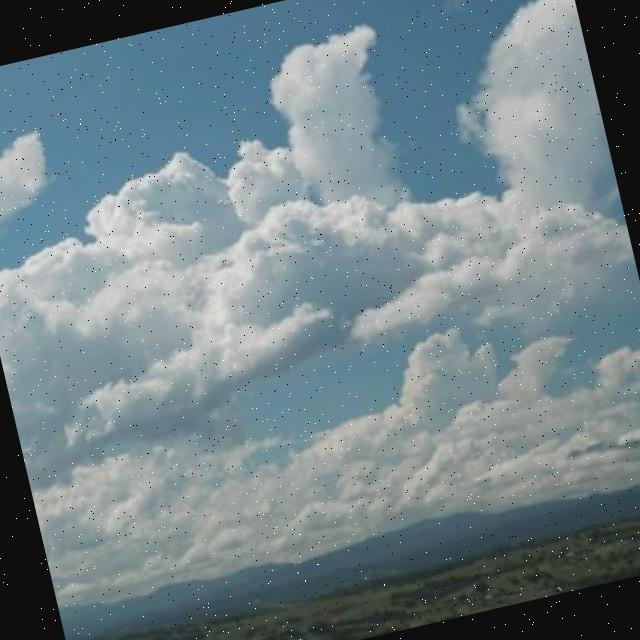Cu: (1, 72, 640, 576)
